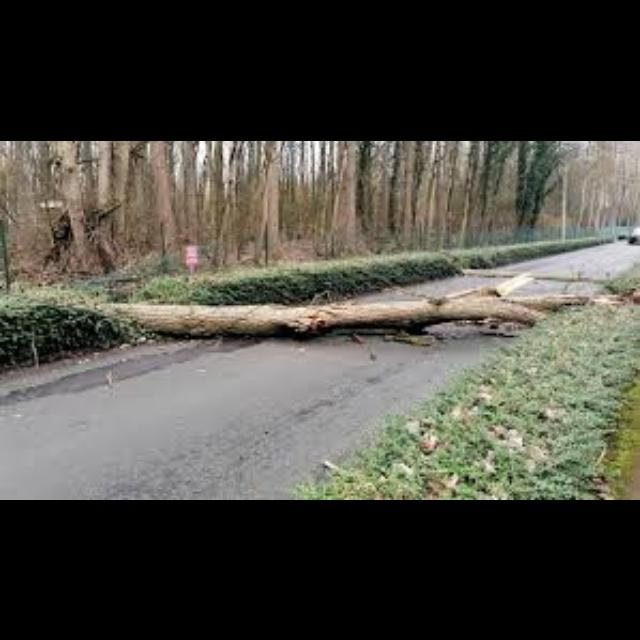Fallen Tree: (49, 269, 639, 339)
